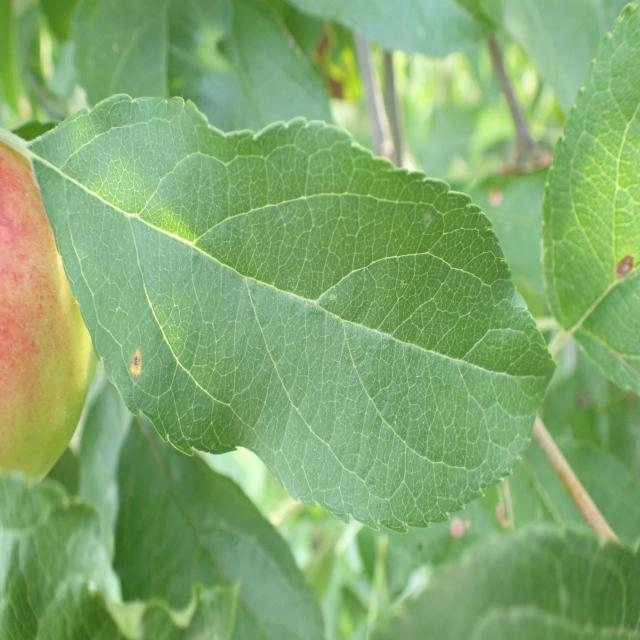Rust: (600, 211, 640, 314), (128, 320, 150, 401)
